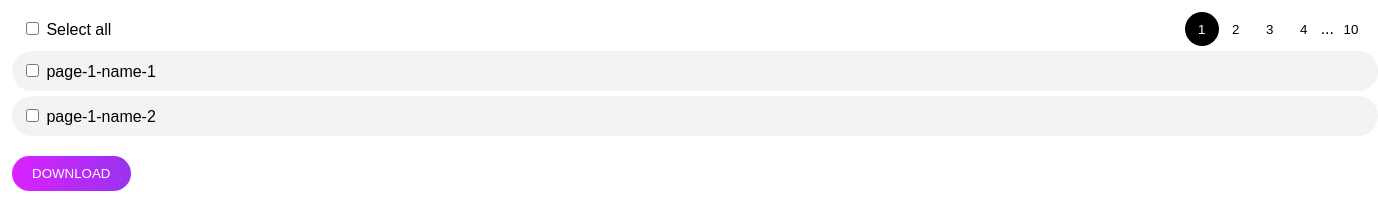
DownloadSelectableList.vue › can select and deselect all items on current page
The width and height of the screenshot is (1378, 208).
Check: the checkbox next to "page-1-name-1" is not checked, box [26,64,39,77]
Check: the checkbox next to "page-1-name-2" is not checked, box [26,109,39,122]
# select all
Click the checkbox next to "Select all" at (32, 28), box [26,22,39,35]
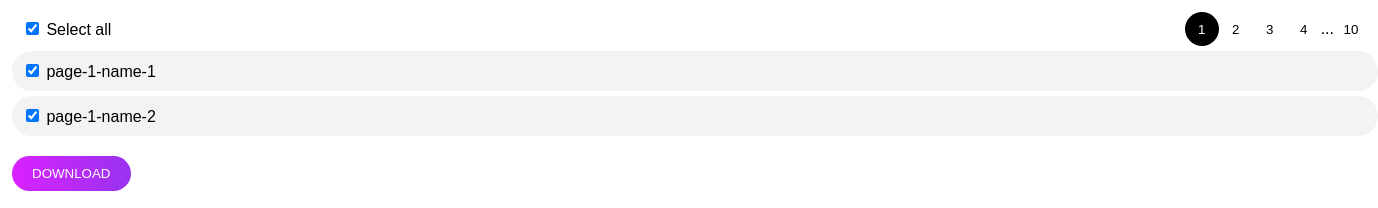
Check: the checkbox next to "page-1-name-1" is checked, box [26,64,39,77]
Check: the checkbox next to "page-1-name-2" is checked, box [26,109,39,122]
